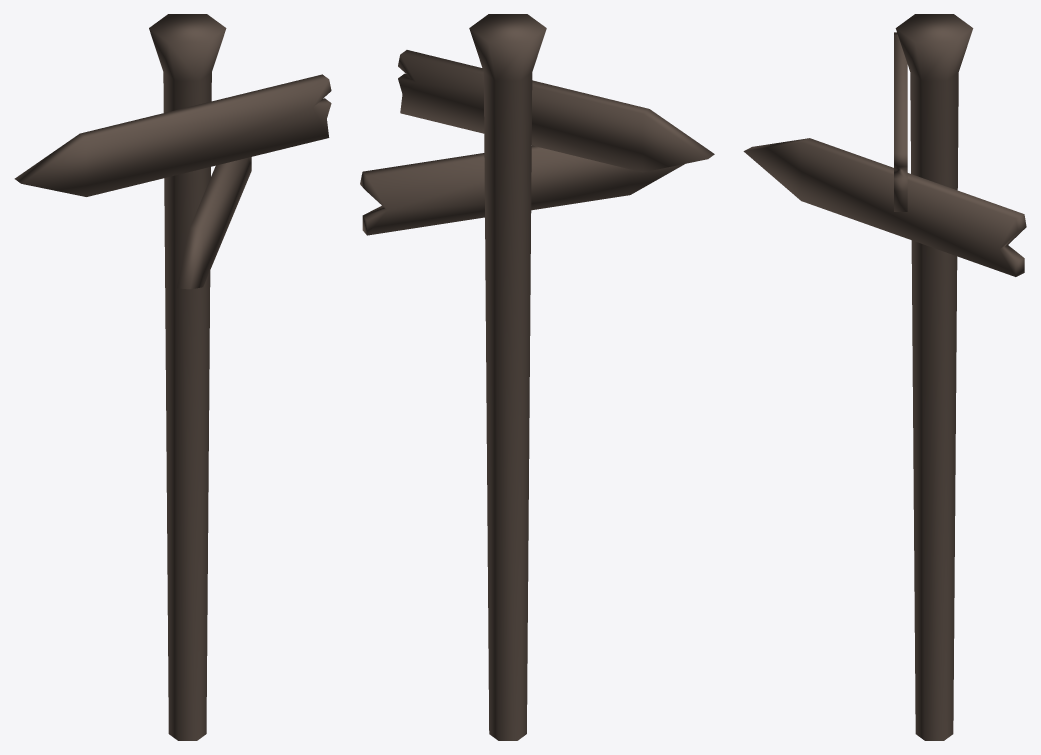
The model's file is road_sign_-_blacksmiths_workshop_assets.glb.
The picture shows the model from 3 angles, left to right: view 1: azimuth 30°, elevation 25°; view 2: azimuth 150°, elevation 25°; view 3: azimuth 270°, elevation 25°; orthographic projection.
Visible parts, largest first — view 1: sign; view 2: sign; view 3: sign.
Boxes of the visible parts, x1=… form: sign: x1=14, y1=14, x2=331, y2=740; sign: x1=360, y1=14, x2=714, y2=740; sign: x1=743, y1=14, x2=1026, y2=740.
Size of the model in its own units: 1.13 by 2.46 by 0.8933.
